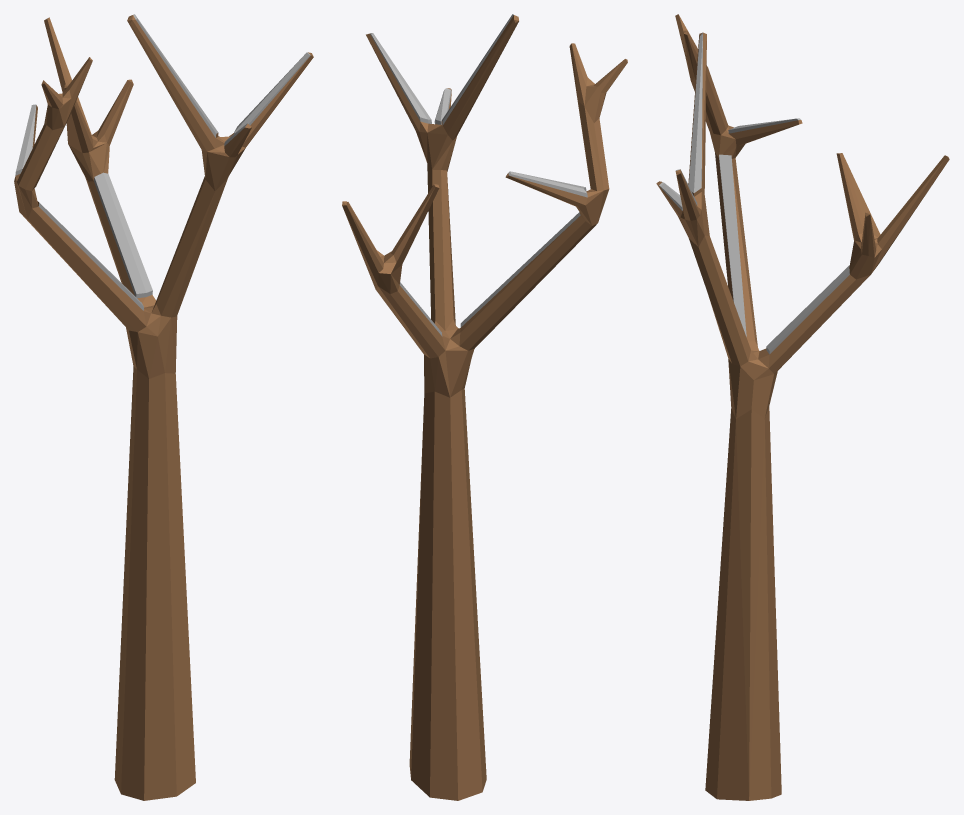
Rendered from Tree_1 Winter.fbx.
3 views of the same model, side by side, from view 1: azimuth 30°, elevation 25°; view 2: azimuth 150°, elevation 25°; view 3: azimuth 270°, elevation 25° (orthographic). The views are drawn at different scales.
Parts seen in each view (by area): view 1: TreeWinter_mesh; view 2: TreeWinter_mesh; view 3: TreeWinter_mesh.
Part boxes in pixels (left/top/right/bottom): TreeWinter_mesh: left=14, top=14, right=313, bottom=800; TreeWinter_mesh: left=342, top=14, right=627, bottom=800; TreeWinter_mesh: left=656, top=14, right=949, bottom=800.
Bounding box in the file's own units: 216 × 602 × 216.
